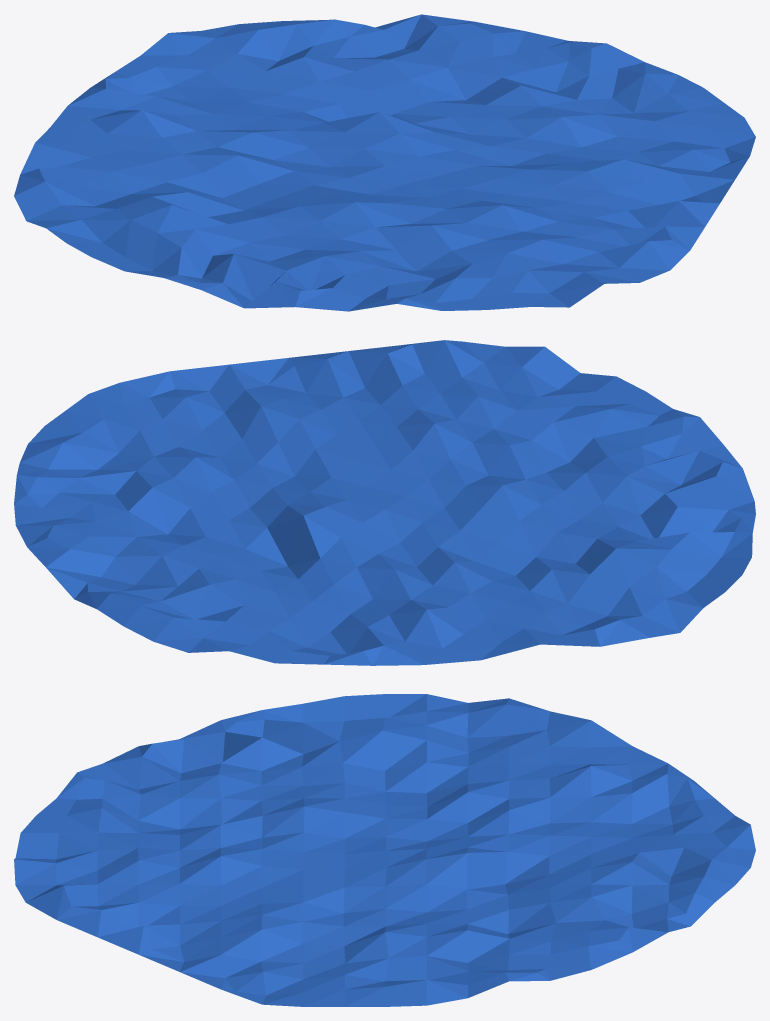
File: Lake Circular 1.fbx
3 views of the same model, one above another, from view 1: azimuth 30°, elevation 25°; view 2: azimuth 150°, elevation 25°; view 3: azimuth 270°, elevation 25° (orthographic). The views are drawn at different scales.
Parts seen in each view (by area): view 1: Lake_Circular_1; view 2: Lake_Circular_1; view 3: Lake_Circular_1.
Boxes of the visible parts, <box> form: Lake_Circular_1: <box>14,14,755,311</box>; Lake_Circular_1: <box>14,340,755,665</box>; Lake_Circular_1: <box>14,694,755,1006</box>.
Bounding box in the file's own units: 1394 × 85.32 × 1397.
1 material, 1 textured.
